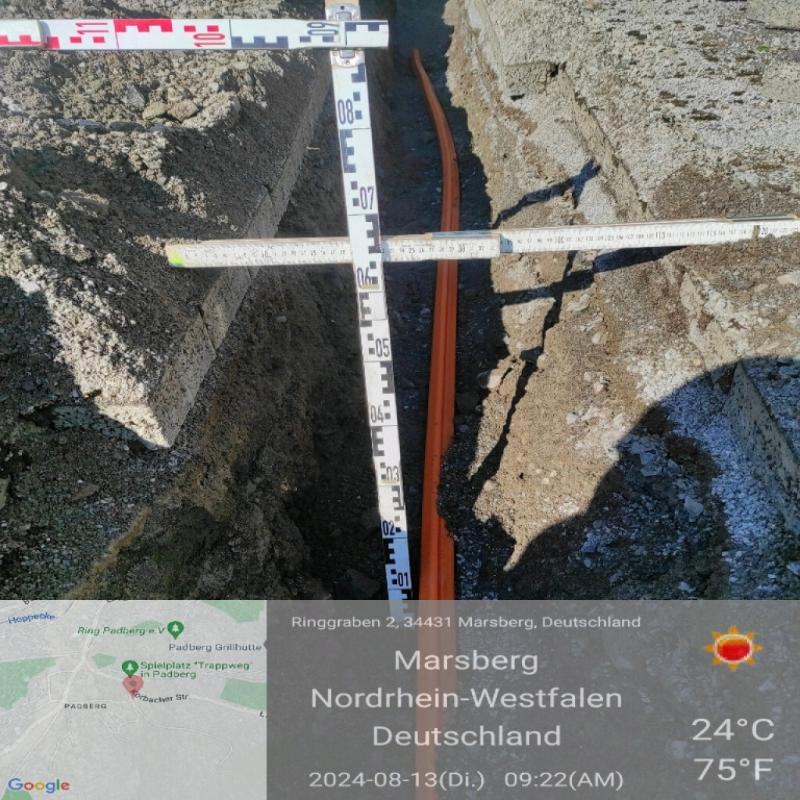Orang-Speednetrohrchen: (415, 62, 459, 574)
